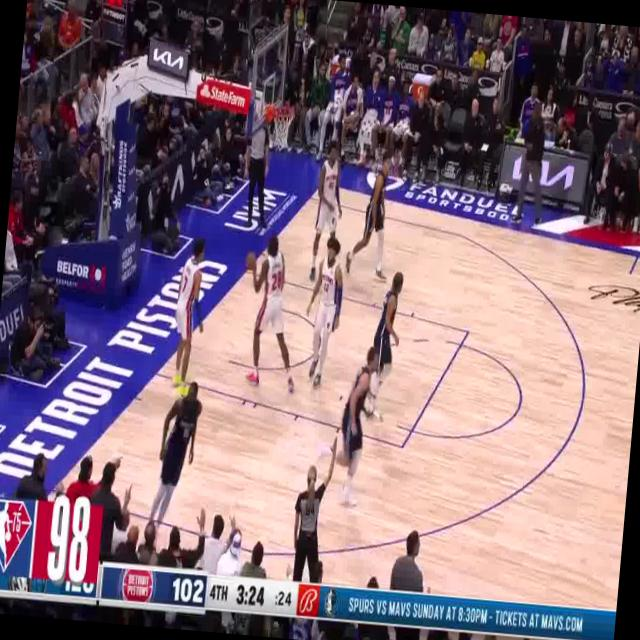ball-handler: (233, 226, 308, 400)
